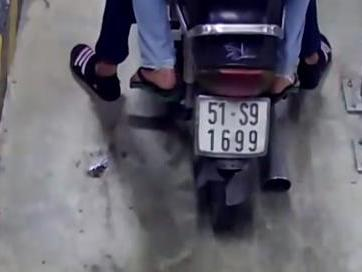num_plate: (192, 94, 271, 157)
